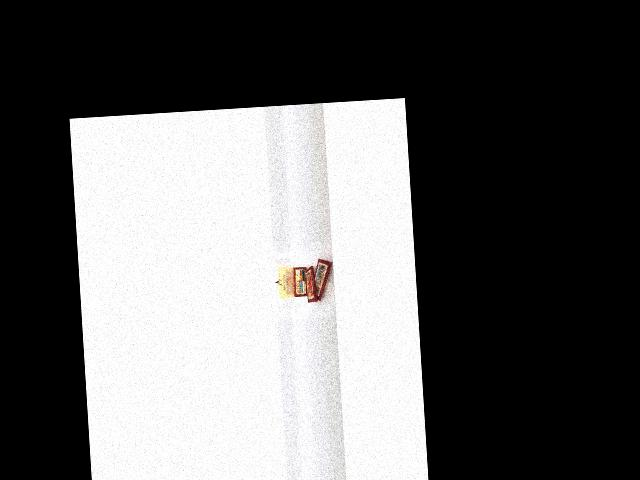chocolate: (310, 249, 337, 303)
